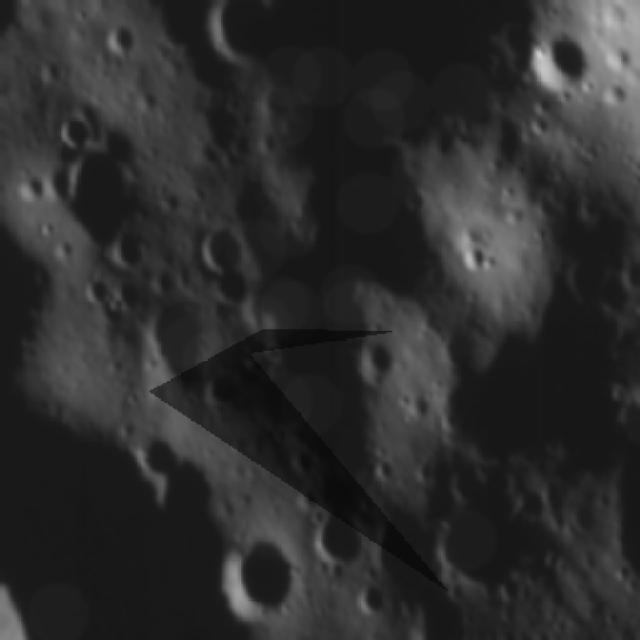crater: (424, 474, 544, 621), (212, 518, 300, 628), (126, 285, 206, 390), (198, 0, 284, 74), (521, 13, 590, 98), (305, 489, 366, 578), (121, 420, 188, 488), (93, 213, 152, 284), (193, 215, 250, 277), (193, 360, 249, 422), (344, 331, 398, 394), (52, 101, 108, 150), (102, 7, 140, 67), (79, 264, 119, 316), (0, 0, 22, 51)
